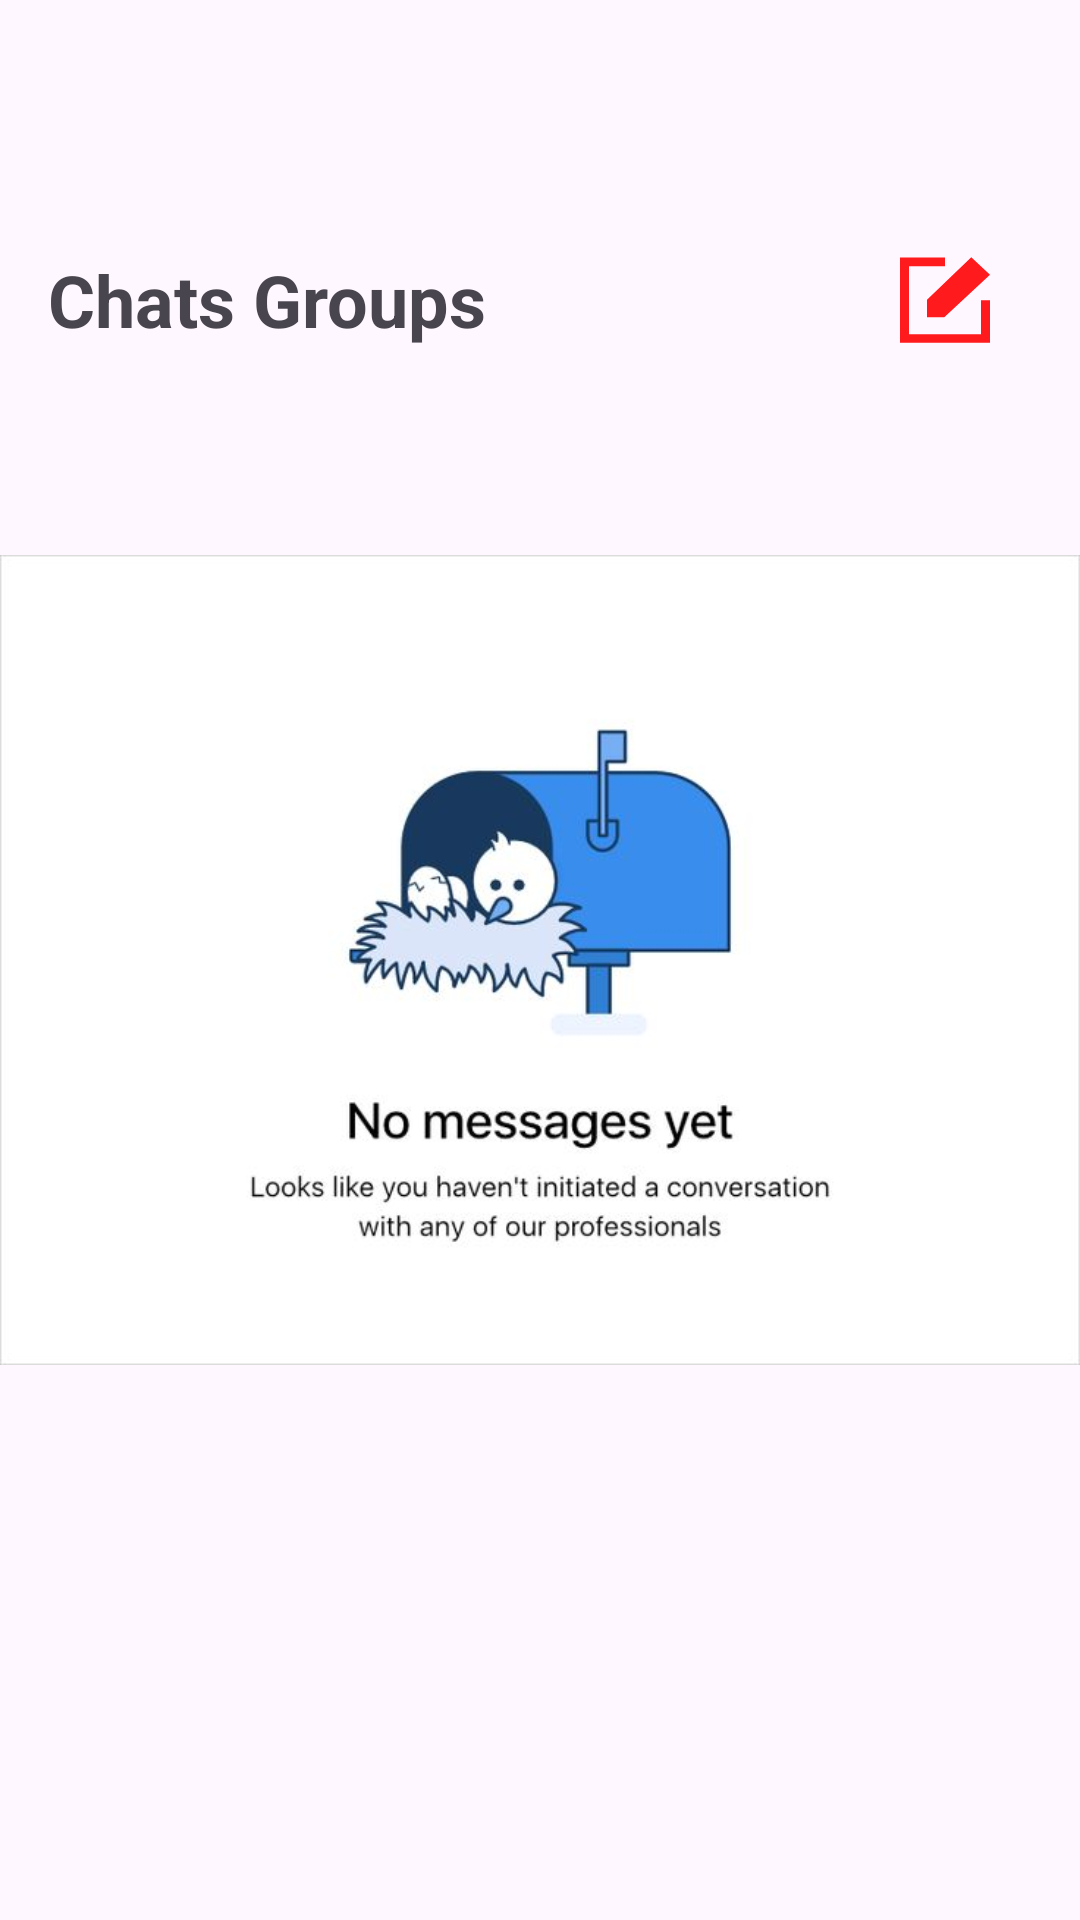

Icon bounding boxes for this 1080*1920 phone screenshot, format (x1, y1, x2, y2):
Create Group: (900, 257, 990, 343)
